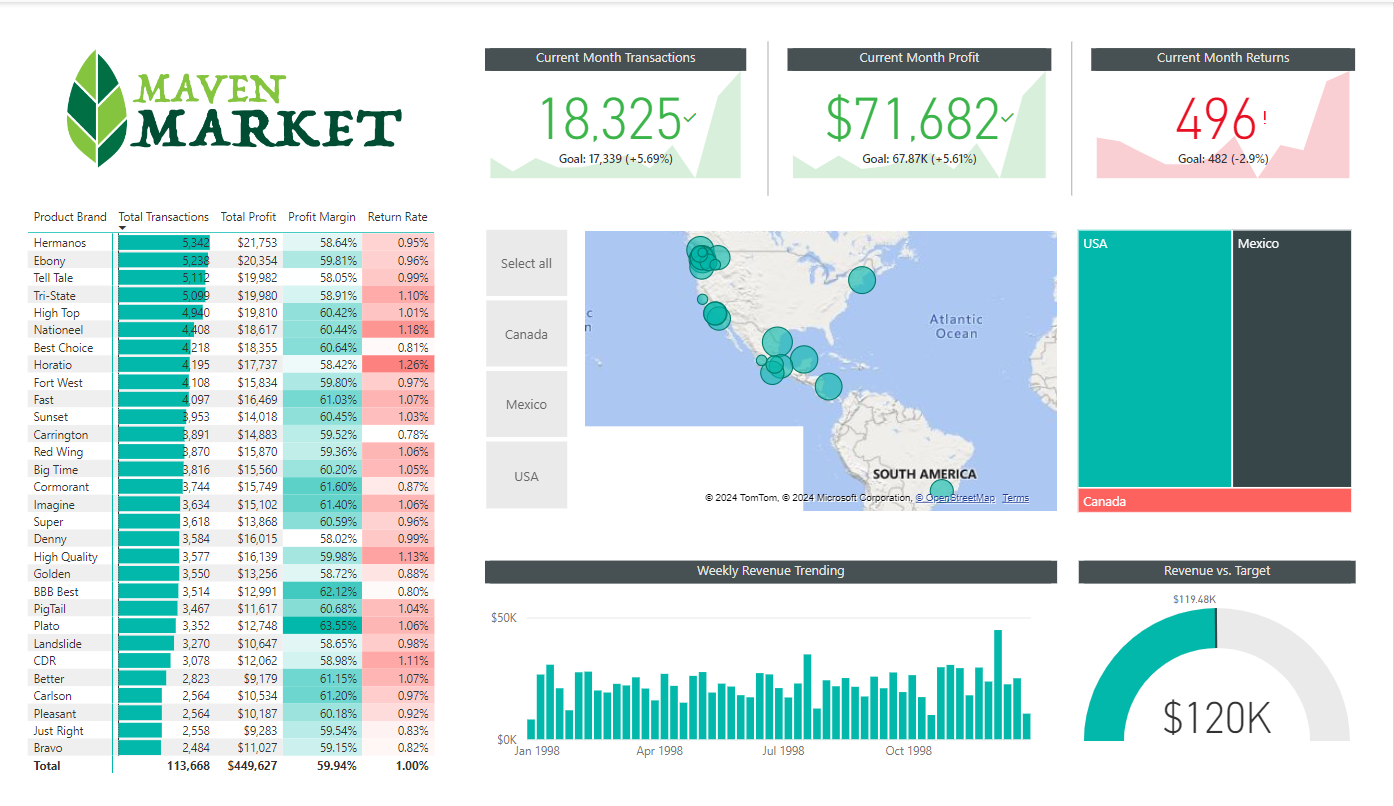

The page's visual inventory and layout, read from the dashboard file:
{"tool":"powerbi","page":{"name":"Topline Performance","canvas":[1280,720],"ordinal":0},"visuals":[{"type":"image","box":[40,7.5,346.6,132.7],"z":0},{"type":"pivotTable","fields":{"Values":["Transaction_Data.Total Transactions","Transaction_Data.Total Profit","Transaction_Data.Profit Margin","Return_Data.Return Rate"],"Rows":["Products.product_brand"]},"box":[20.6,161.3,401.5,536],"z":1000},{"type":"kpi","title":"Current Month Transactions","fields":{"TrendLine":["Calendar.Start of Month"],"Goal":["Transaction_Data.Last Month Transactions"],"Indicator":["Transaction_Data.Total Transactions"]},"box":[445.9,19,240.2,124.7],"z":2000},{"type":"kpi","title":"Current Month Profit","fields":{"TrendLine":["Calendar.Start of Month"],"Goal":["Transaction_Data.Last Month Profit"],"Indicator":["Transaction_Data.Total Profit"]},"box":[723.3,19,242.5,124.7],"z":3000},{"type":"kpi","title":"Current Month Returns","fields":{"TrendLine":["Calendar.Start of Month"],"Goal":["Return_Data.Last Month Returns"],"Indicator":["Return_Data.Total Returns"]},"box":[1003,19,242.5,124.7],"z":4000},{"type":"map","fields":{"Category":["Stores.store_city"],"Size":["Transaction_Data.Total Transactions"]},"box":[532.8,182.5,442.7,266.5],"z":5000},{"type":"slicer","fields":{"Values":["Stores.store_country"]},"box":[420.5,178.9,124.7,270],"z":6000},{"type":"columnChart","title":"Weekly Revenue Trending","fields":{"Category":["Calendar.Start of Week"],"Y":["Transaction_Data.Total Revenue"]},"box":[445.9,490,525.3,192.2],"z":7000},{"type":"gauge","title":"Revenue vs. Target","fields":{"Y":["Transaction_Data.Total Revenue"],"TargetValue":["Transaction_Data.Revenue Target"]},"box":[991.1,490,254.4,171.6],"z":8000},{"type":"basicShape","box":[671.7,2.9,67.5,161.3],"z":9000},{"type":"basicShape","box":[950.3,2.9,67.5,161.3],"z":10000},{"type":"treemap","fields":{"Group":["Stores.store_country","Stores.store_state","Stores.store_city"],"Values":["Transaction_Data.Total Transactions"]},"box":[985.8,181.4,261.9,270],"z":11000}]}

Visuals, with their boxes in screenshot pixels (x1, y1, x2, y2), scaled from the page's 1280x720 canvas onto the 1394x806 screenshot:
image: bbox(44, 8, 421, 157)
pivotTable - Transaction_Data.Total Transactions x Transaction_Data.Total Profit: bbox(22, 181, 460, 781)
"Current Month Transactions" kpi: bbox(486, 21, 747, 161)
"Current Month Profit" kpi: bbox(788, 21, 1052, 161)
"Current Month Returns" kpi: bbox(1092, 21, 1356, 161)
map - Stores.store_city x Transaction_Data.Total Transactions: bbox(580, 204, 1062, 503)
slicer - Stores.store_country: bbox(458, 200, 594, 503)
"Weekly Revenue Trending" columnChart: bbox(486, 549, 1058, 764)
"Revenue vs. Target" gauge: bbox(1079, 549, 1356, 741)
basicShape: bbox(732, 3, 805, 184)
basicShape: bbox(1035, 3, 1108, 184)
treemap - Stores.store_country x Stores.store_state: bbox(1074, 203, 1359, 505)
